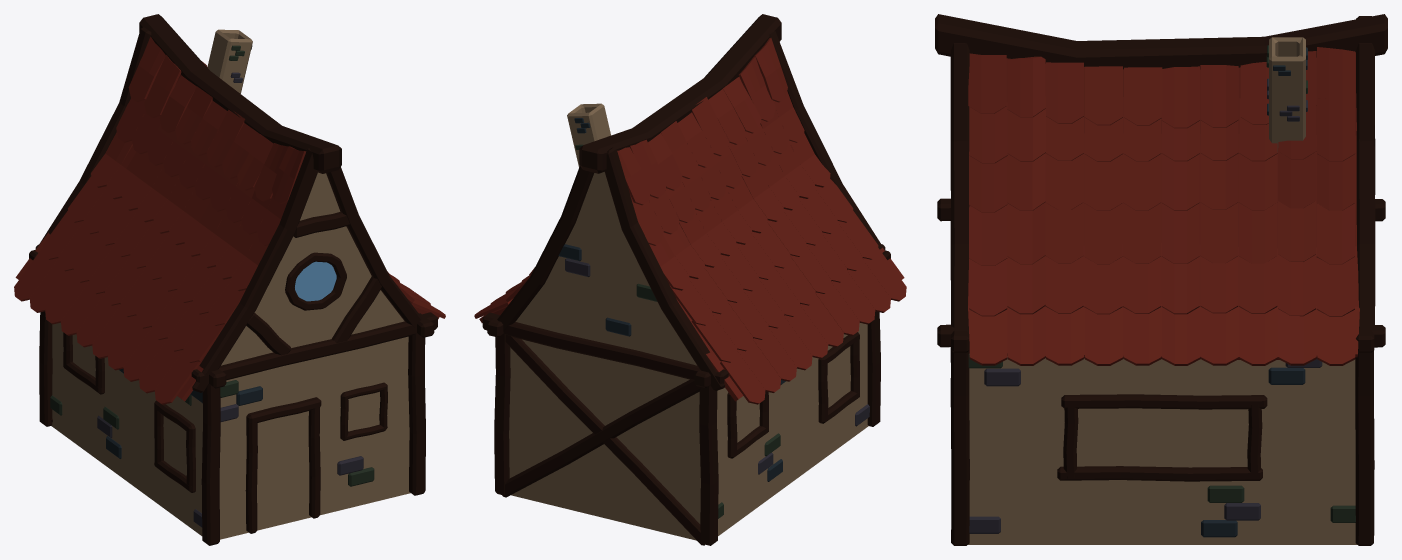
File: Haus_one.obj
3 views of the same model, side by side, from view 1: azimuth 30°, elevation 25°; view 2: azimuth 150°, elevation 25°; view 3: azimuth 270°, elevation 25° (orthographic). The views are drawn at different scales.
Visible parts, largest first — view 1: Cube.124, Plane, Plane.001, Plane.004, Cube.011, Cube.028, Cube.002, Cube, Cube.027, Cube.001, Cube.030, Cube.006 (+22 smaller); view 2: Cube.124, Plane.003, Plane.005, Plane.001, Cube.011, Cube.030, Cube.035, Cube.014, Cube.036, Cube.029, Cube.012, Cube.013 (+17 smaller); view 3: Cube.093, Plane.002, Cube.011, Cube.029, Cube.027, Cube.013, Cube.001, Cube.006, Plane.007, Cube.023, Cube.025, Cube.024 (+9 smaller).
Boxes of the visible parts, box(x1,y1,x2,y2) form: Cube.124: box(20, 36, 306, 403); Plane: box(219, 336, 410, 539); Plane.001: box(51, 322, 202, 535); Plane.004: box(221, 172, 404, 365); Cube.011: box(139, 14, 341, 173); Cube.028: box(192, 148, 317, 392); Cube.002: box(191, 312, 437, 385); Cube: box(201, 384, 220, 545); Cube.027: box(326, 167, 422, 336); Cube.001: box(408, 333, 425, 495); Cube.030: box(37, 27, 151, 247); Cube.006: box(207, 29, 252, 93); Cube.124: box(617, 38, 900, 404); Plane.003: box(509, 339, 700, 540); Plane.005: box(515, 172, 696, 365); Plane.001: box(717, 323, 868, 535); Cube.011: box(579, 14, 781, 173); Cube.030: box(604, 147, 724, 390); Cube.035: box(505, 335, 704, 545); Cube.014: box(482, 312, 728, 384); Cube.036: box(502, 379, 700, 497); Cube.029: box(497, 166, 593, 337); Cube.012: box(699, 385, 718, 545); Cube.013: box(494, 333, 510, 494); Cube.093: box(968, 47, 1355, 365); Plane.002: box(968, 356, 1357, 544); Cube.011: box(935, 14, 1387, 69); Cube.029: box(1356, 43, 1375, 346); Cube.027: box(950, 43, 969, 327); Cube.013: box(1355, 351, 1374, 545); Cube.001: box(950, 350, 969, 545); Cube.006: box(1269, 37, 1305, 151); Plane.007: box(968, 52, 1359, 359); Cube.023: box(1061, 394, 1267, 409); Cube.025: box(1057, 466, 1262, 481); Cube.024: box(1247, 397, 1262, 472).
Bounding box in the file's own units: 5.13 × 6.51 × 5.67.
